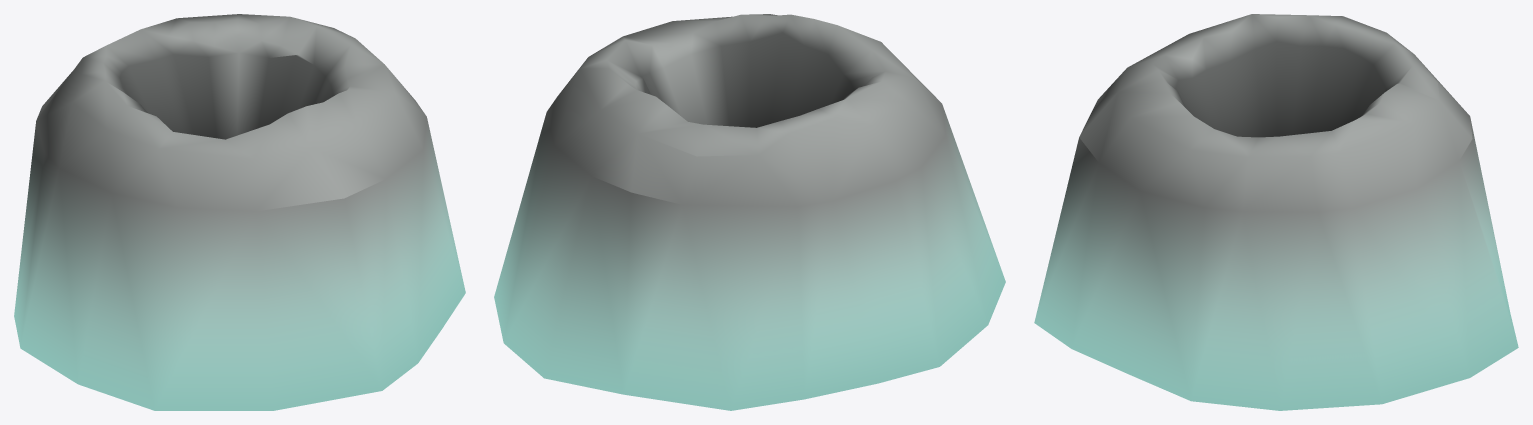
The picture shows the model from 3 angles, left to right: view 1: azimuth 30°, elevation 25°; view 2: azimuth 150°, elevation 25°; view 3: azimuth 270°, elevation 25°; orthographic projection. The views are drawn at different scales.
Visible parts, largest first — view 1: G:\FFXIV-MapTools\exports\r2f1\bg\ex1\01_roc_r2\fld\r2f1\bgp; view 2: G:\FFXIV-MapTools\exports\r2f1\bg\ex1\01_roc_r2\fld\r2f1\bgp; view 3: G:\FFXIV-MapTools\exports\r2f1\bg\ex1\01_roc_r2\fld\r2f1\bgp.
Boxes of the visible parts, left/top/right/bottom form: G:\FFXIV-MapTools\exports\r2f1\bg\ex1\01_roc_r2\fld\r2f1\bgp: left=14, top=14, right=465, bottom=410; G:\FFXIV-MapTools\exports\r2f1\bg\ex1\01_roc_r2\fld\r2f1\bgp: left=494, top=14, right=1005, bottom=410; G:\FFXIV-MapTools\exports\r2f1\bg\ex1\01_roc_r2\fld\r2f1\bgp: left=1034, top=14, right=1518, bottom=410.
Size of the model in its own units: 1.21 by 0.6885 by 1.25.
